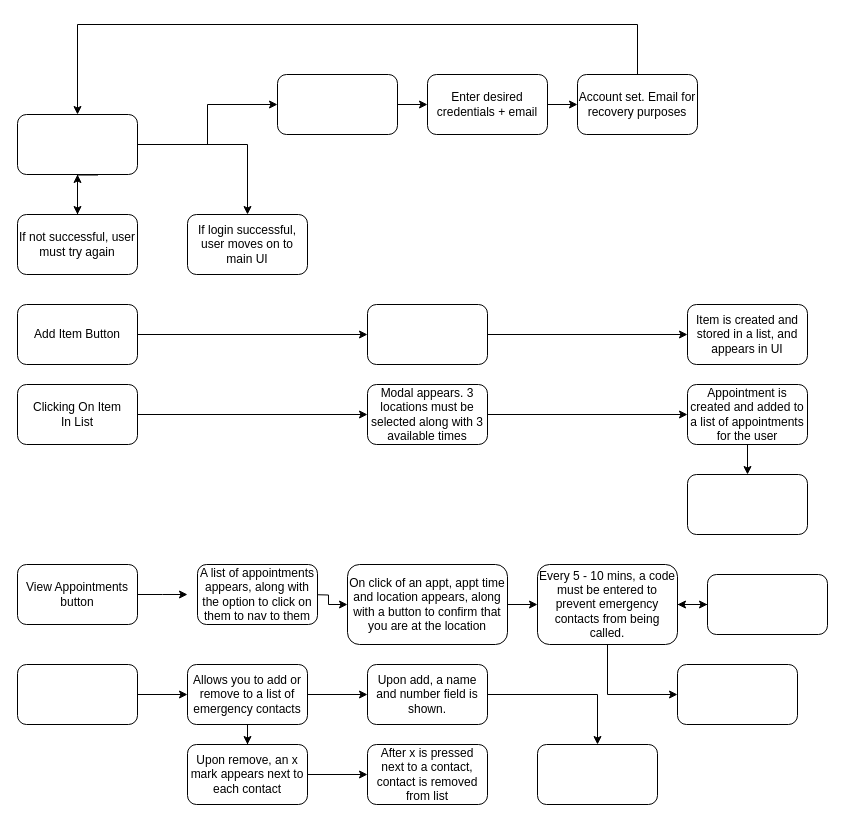
The diagram is 845 pixels wide and 822 high, and some of its shapes have lost their labels. The centre of each missing label's shape, as x and y in pixels:
"Type Item Name" box appears: the point at 427,334
If entered, timer is reset for 5 - 10 minutes.: the point at 767,604
If not, emergency contacts are texted.: the point at 737,694
Signup for an account: the point at 337,104
Type credentials and hit login button: the point at 77,144
Update Emergency Contacts button: the point at 77,694
Upon agreement from seller, time and location are finalized and displayed: the point at 747,504
Upon hitting the save button, the contact is saved.: the point at 597,774
